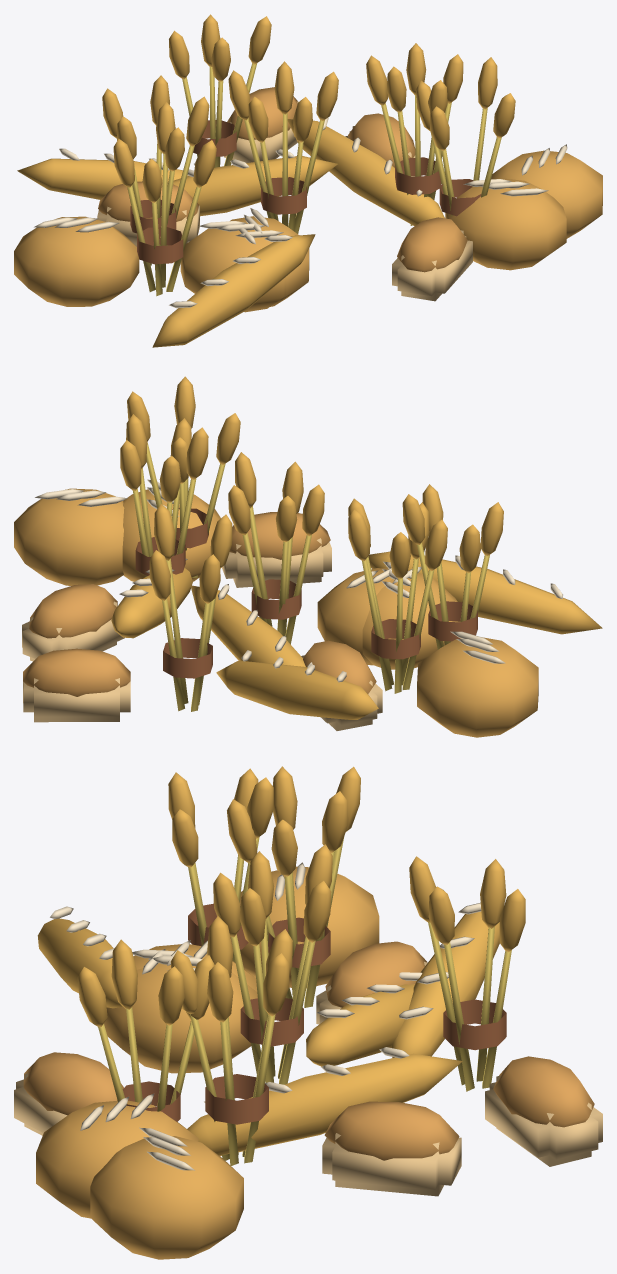
The model's file is bread_patch_v2.glb.
3 renders of one model, top to bottom at view 1: azimuth 30°, elevation 25°; view 2: azimuth 150°, elevation 25°; view 3: azimuth 270°, elevation 25°, orthographic. The views are drawn at different scales.
Parts seen in each view (by area): view 1: bread_3, bread_2, bread_1; view 2: bread_3, bread_2, bread_1; view 3: bread_3, bread_2, bread_1.
Part boxes in pixels (bbox=[...]): bread_3: bbox=[14, 14, 602, 347]; bread_2: bbox=[17, 43, 566, 312]; bread_1: bbox=[97, 61, 444, 306]; bread_3: bbox=[14, 376, 602, 737]; bread_2: bbox=[22, 414, 459, 719]; bread_1: bbox=[111, 452, 421, 730]; bread_3: bbox=[14, 768, 602, 1259]; bread_2: bbox=[36, 766, 499, 1218]; bread_1: bbox=[104, 844, 462, 1156].
Bounding box in the file's own units: 1.82 × 0.6284 × 1.34.
